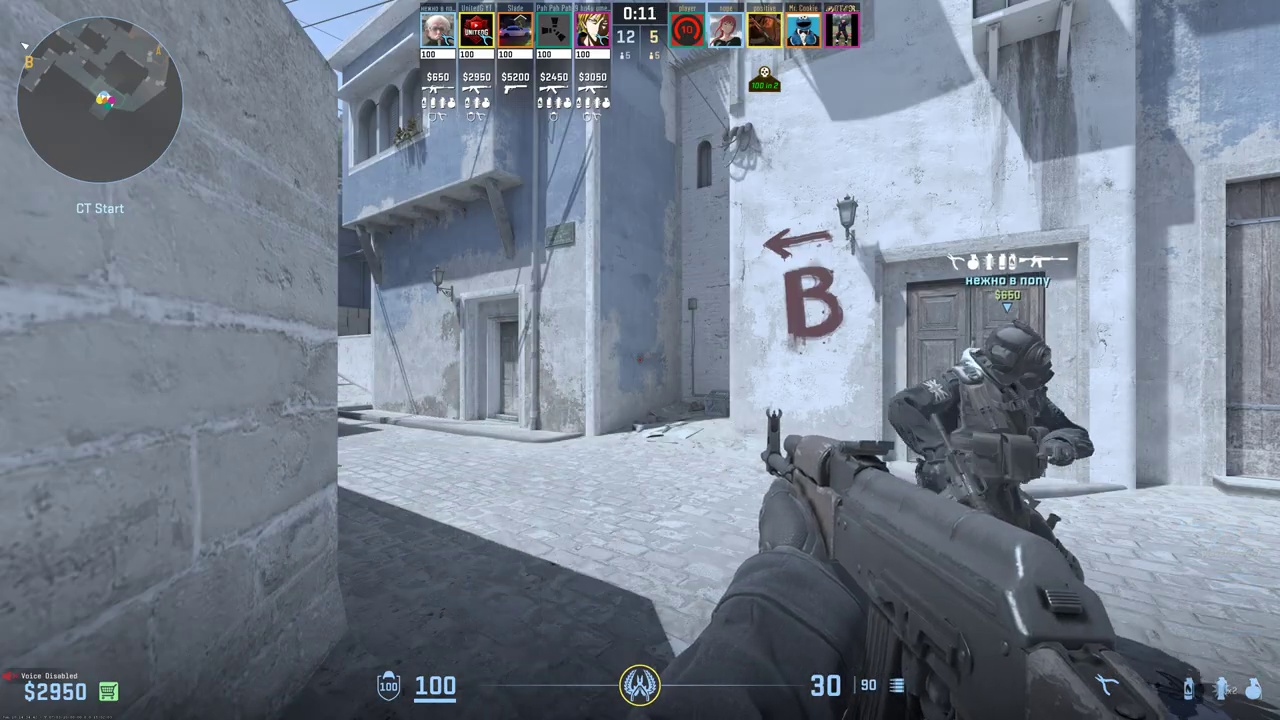CT: (922, 324, 1072, 535)
